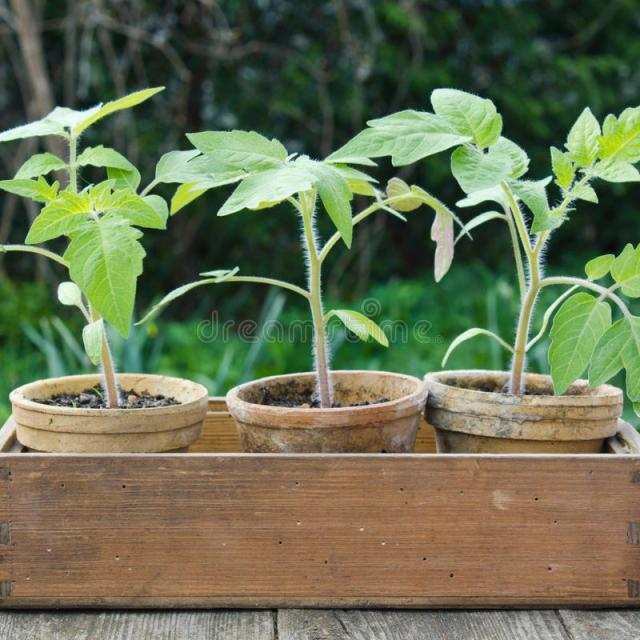tomato: (327, 88, 640, 411), (143, 130, 460, 408), (0, 86, 180, 408)
